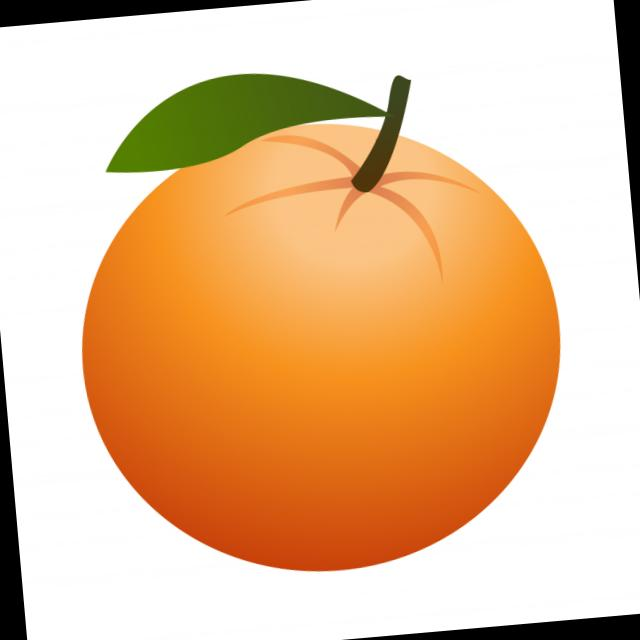orange: (45, 101, 574, 598)
